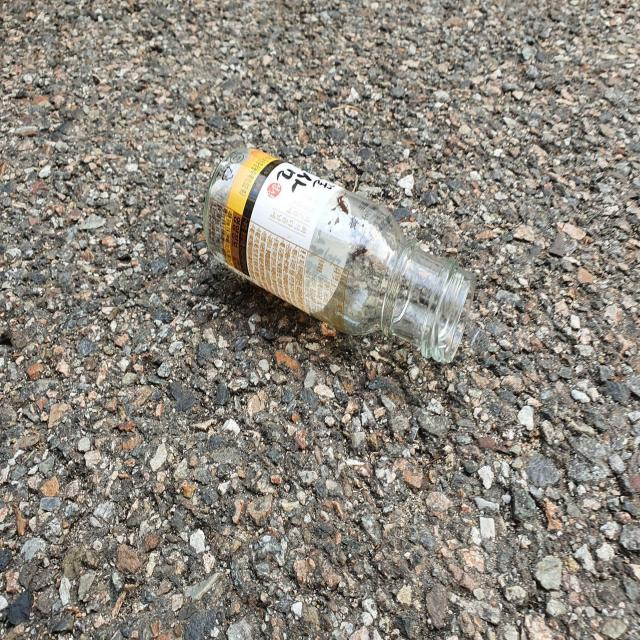glass: (203, 148, 476, 362)
